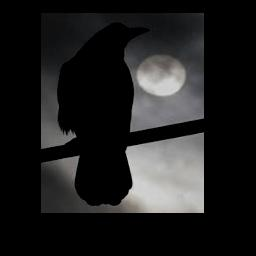Crow: (57, 22, 151, 207)
